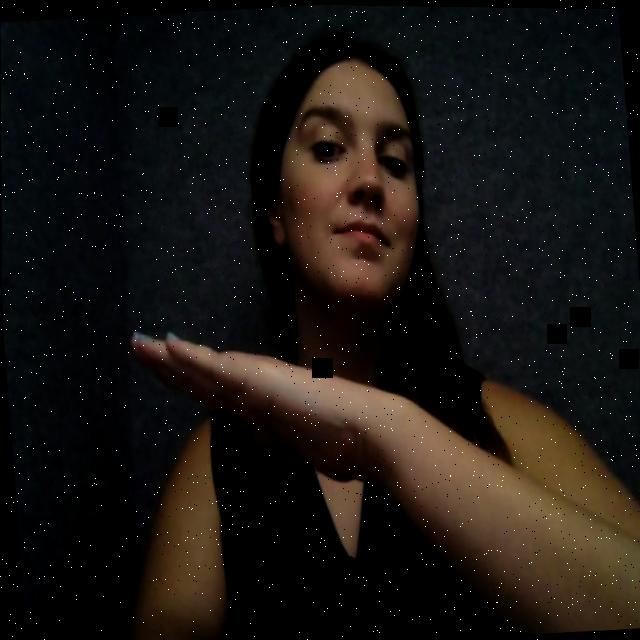Paper: (96, 290, 382, 480)
